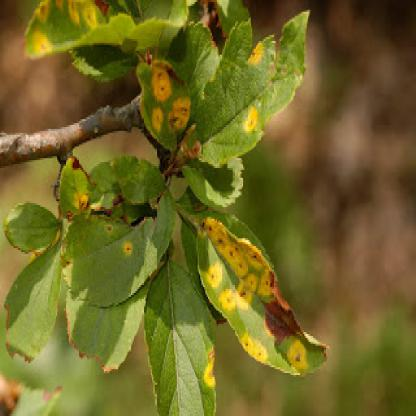Apple rust leaf: (192, 195, 338, 398), (182, 18, 338, 178), (57, 186, 181, 314), (125, 55, 203, 158)
